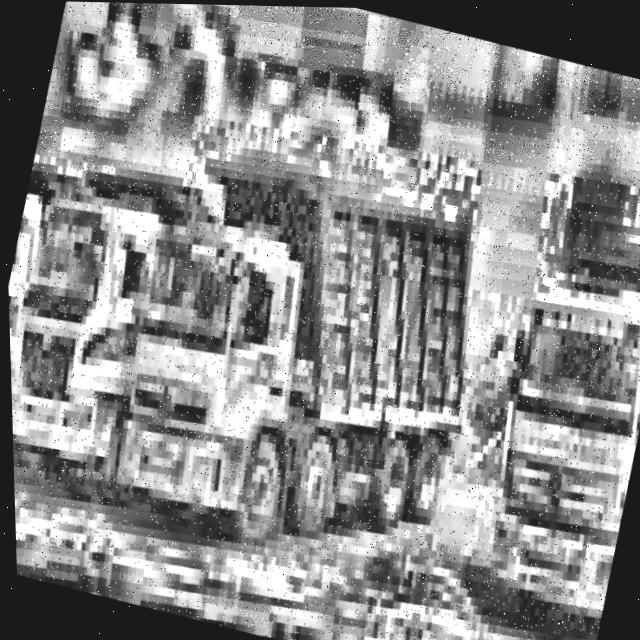dump_truck: (61, 97, 533, 611), (425, 144, 640, 640), (3, 136, 228, 507), (3, 150, 112, 474)
